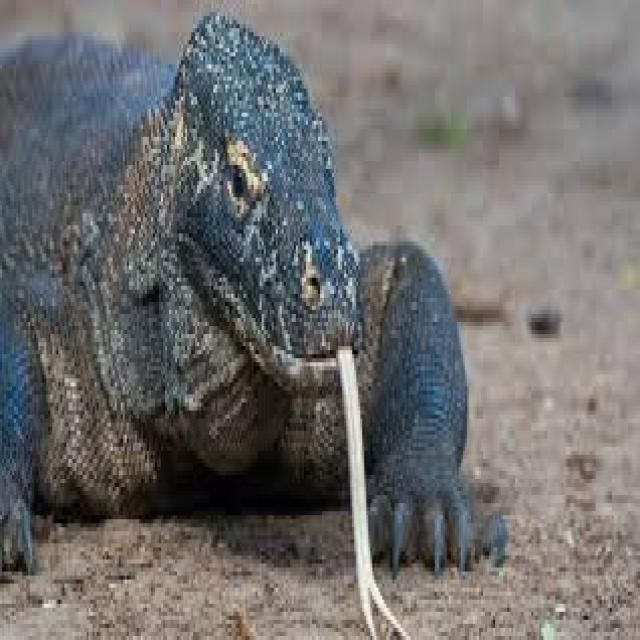Lizard: (0, 12, 510, 559)
